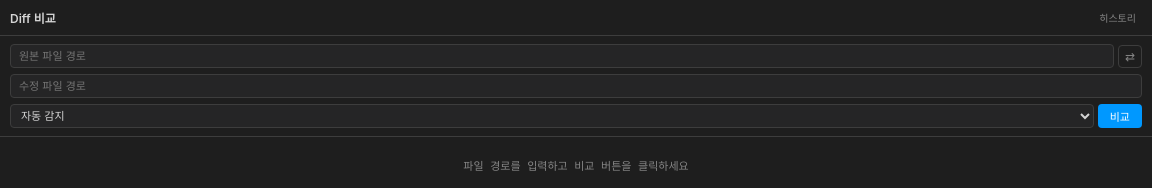
Scenario: DiffPanel › 파일 읽기 실패 시 에러 메시지가 표시된다
This screenshot has width=1152, height=188.
In the field with placeholder "원본 파일 경로": (562, 56) [10, 44, 1114, 68], type "/not.ts"
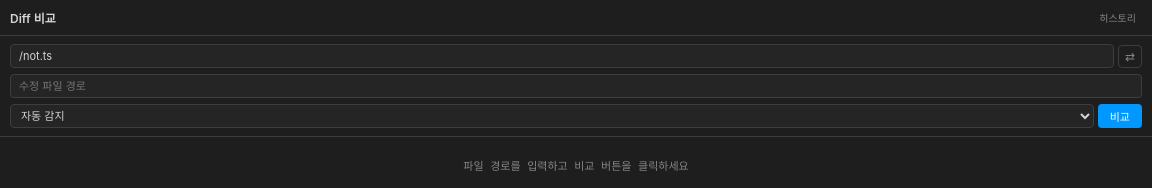
In the field with placeholder "수정 파일 경로": (576, 86) [10, 74, 1142, 98], type "/exist.ts"
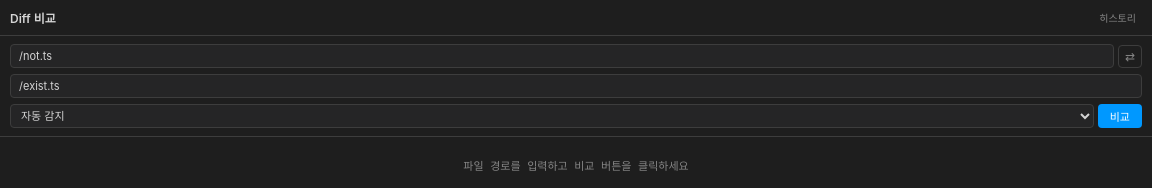
Click the button "비교": click(1120, 116) [1098, 104, 1142, 128]
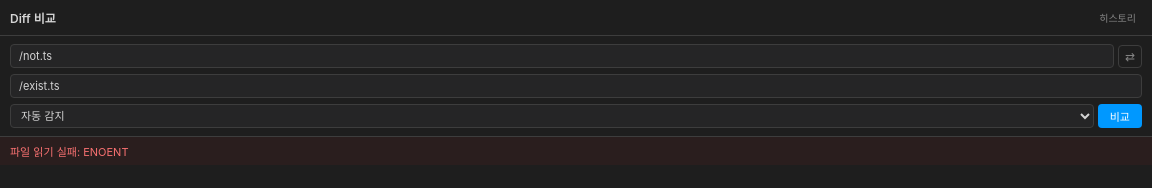
Now the text "파일 읽기 실패: ENOENT" is shown, box [0, 137, 1151, 165]
